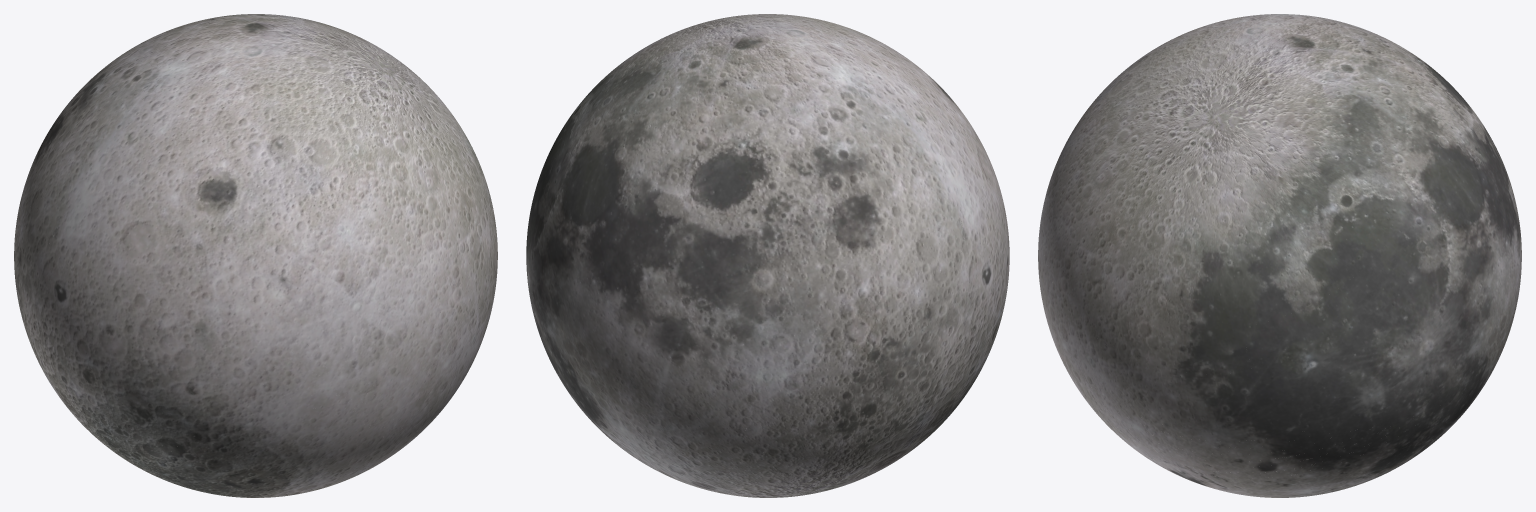
File: moon.glb
3 renders of one model, left to right at view 1: azimuth 30°, elevation 25°; view 2: azimuth 150°, elevation 25°; view 3: azimuth 270°, elevation 25°, orthographic.
Visible parts, largest first — view 1: Sphere; view 2: Sphere; view 3: Sphere.
Boxes of the visible parts, x1=… form: Sphere: x1=14, y1=14, x2=497, y2=497; Sphere: x1=526, y1=14, x2=1009, y2=497; Sphere: x1=1038, y1=14, x2=1521, y2=497.
Bounding box in the file's own units: 2 × 2 × 2.
1 material, 1 textured.
